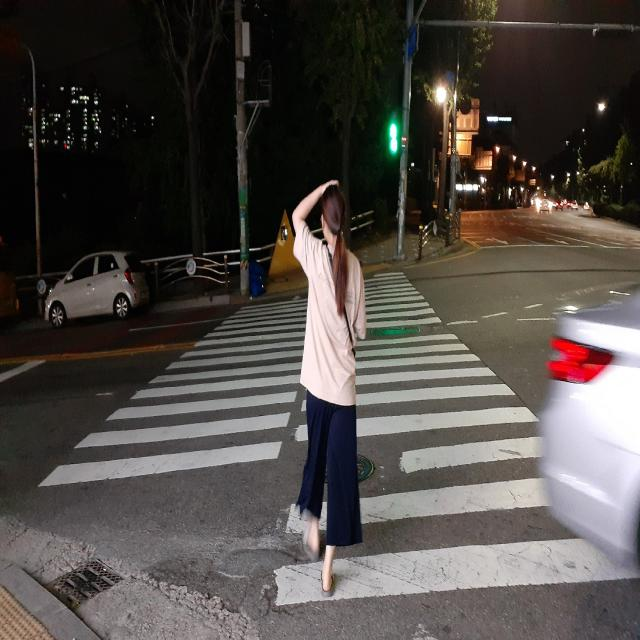초록불: (388, 117, 399, 154)
횡단보도: (35, 268, 640, 614)
